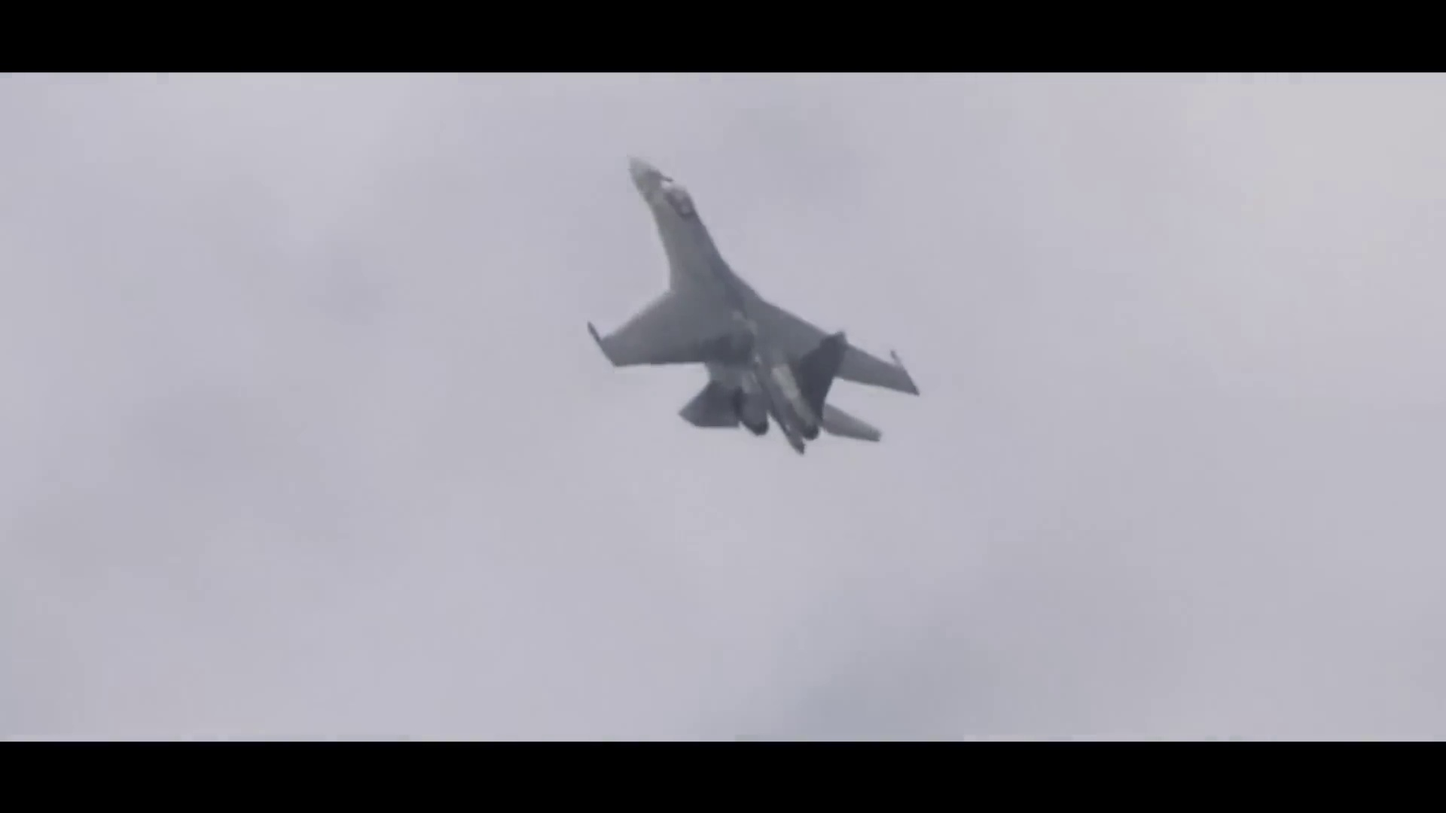Su35: (586, 158, 922, 455)
